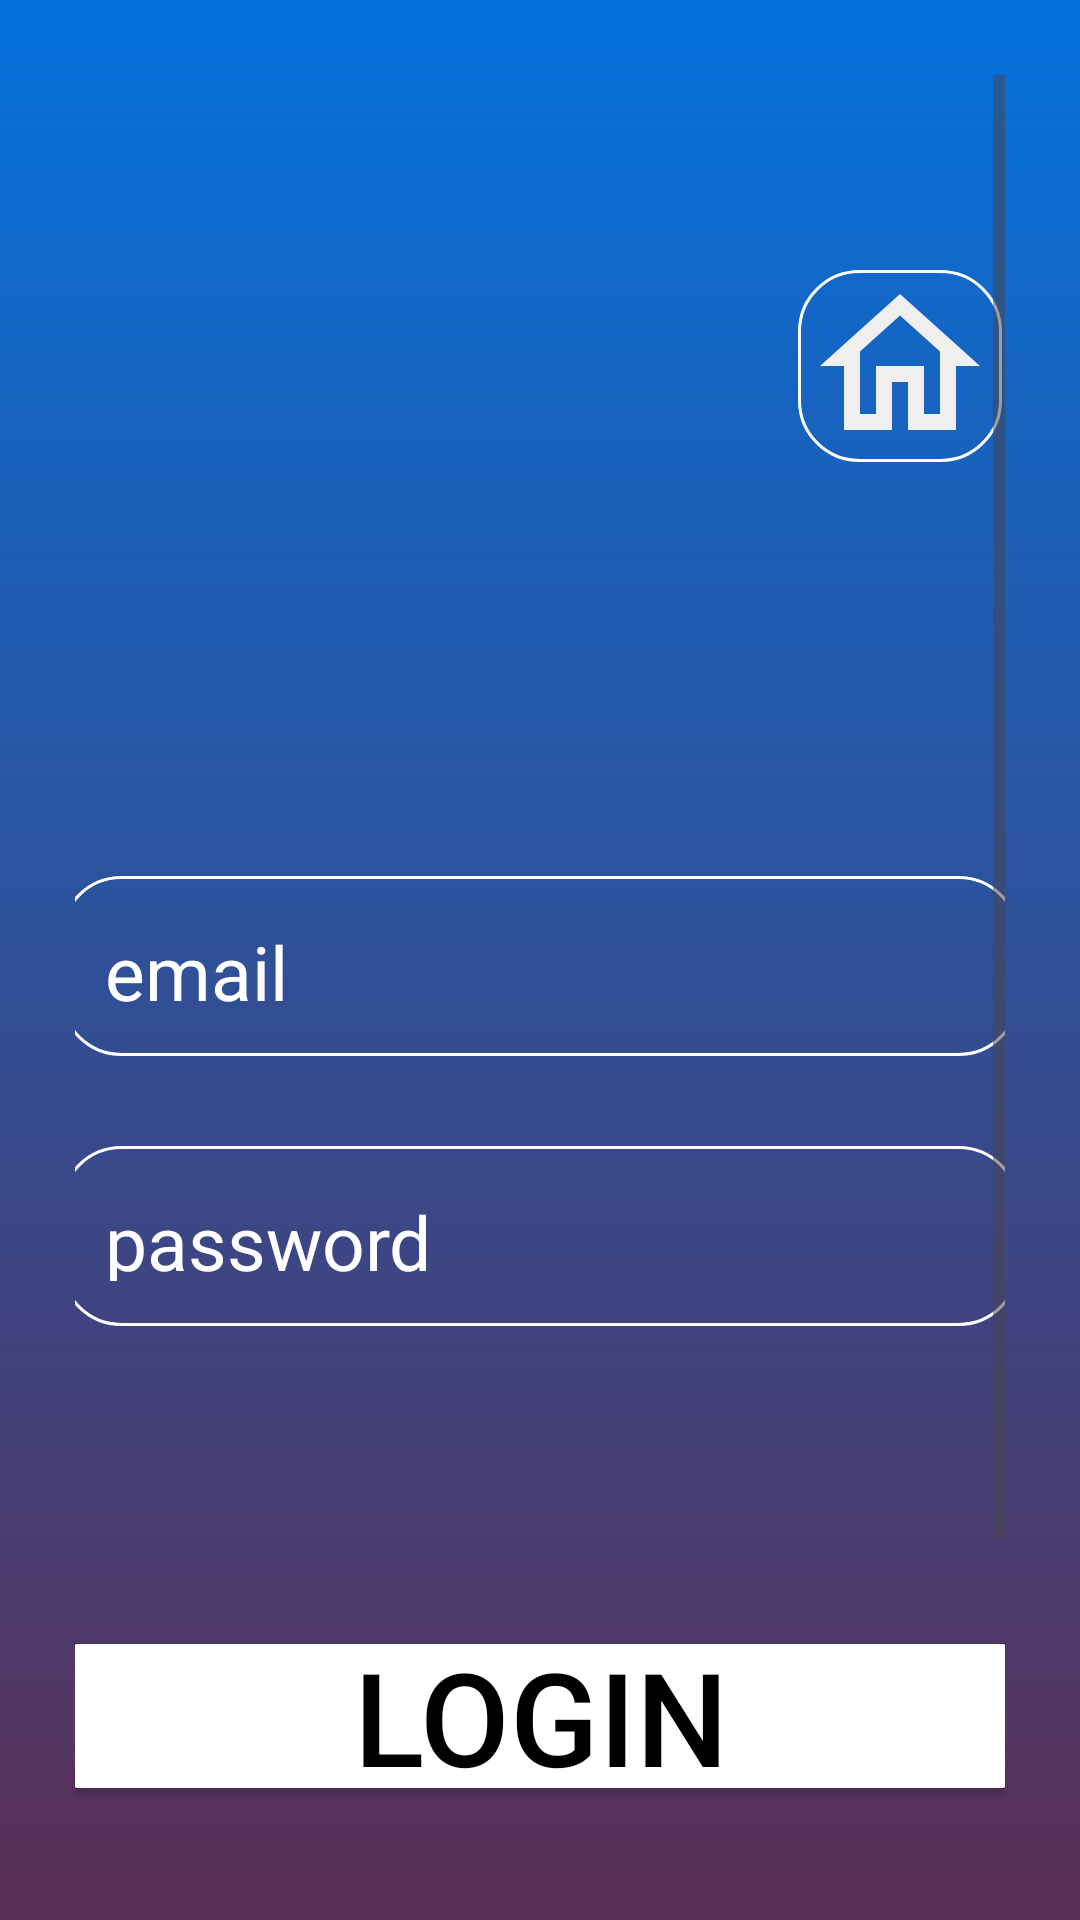

Named icons in this screenshot (1080px x 1920px) and their bounding boxes, (x1, y1, x2, y2):
home: (820, 294, 980, 430)
